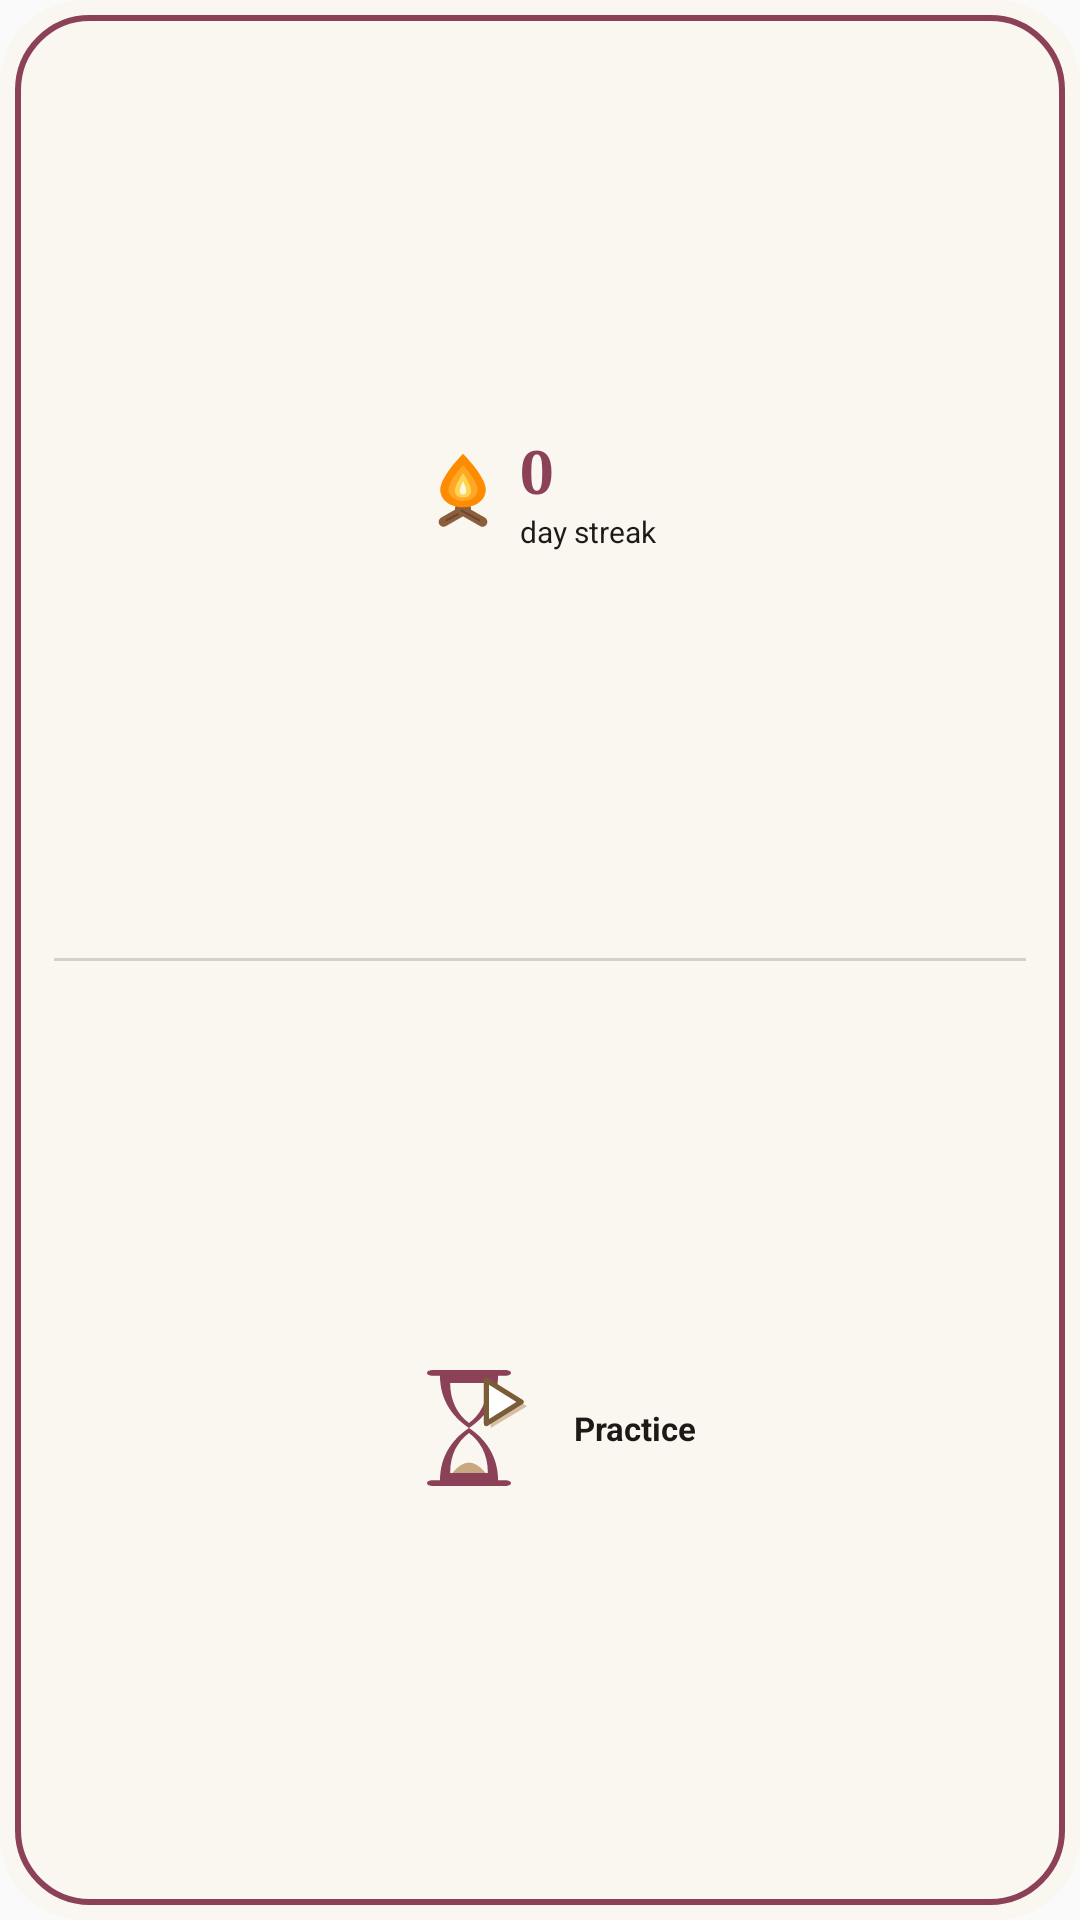

Point at icon controls on the screen. Image size 1080w x 1920h, points as (x,y).
flame: (463,490)
widget hourglass play: (477,1428)
